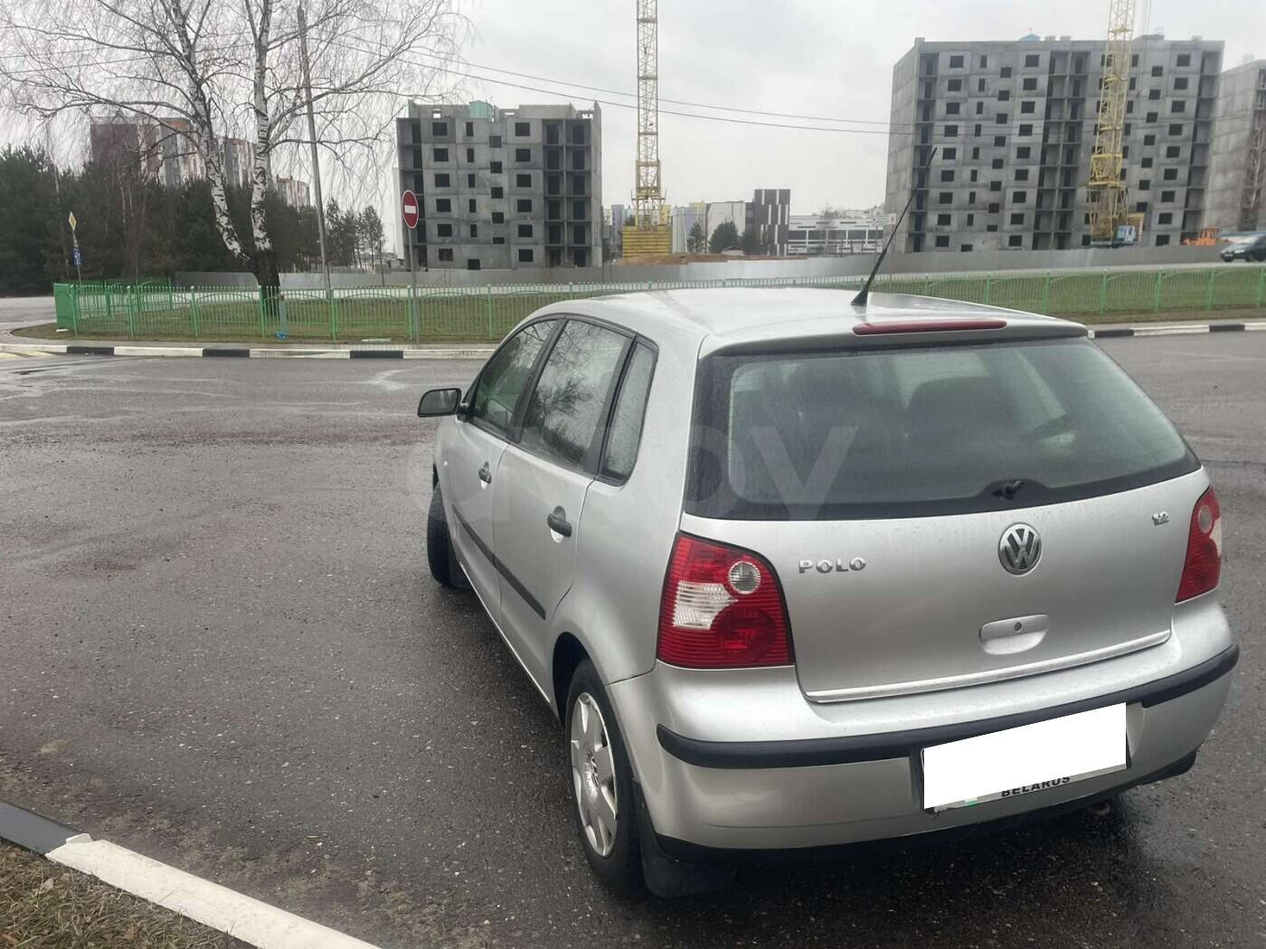Polo_2001-2005: (405, 281, 1220, 919)
